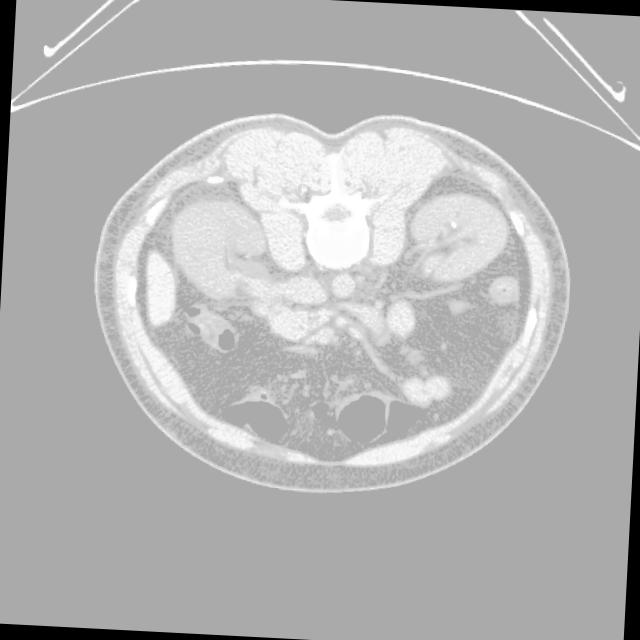STONE: (173, 295, 498, 517)
